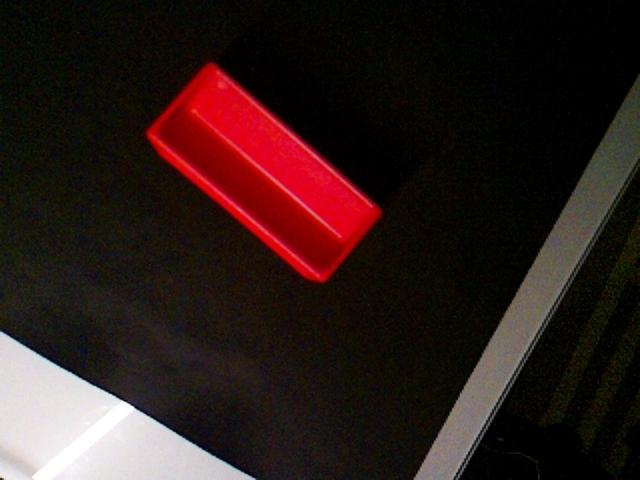red: (145, 60, 384, 284)
